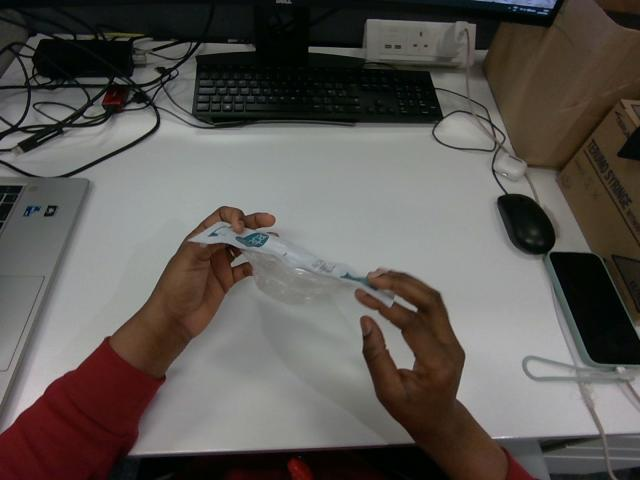gallipot: (190, 222, 392, 305)
